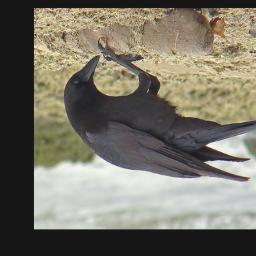Crow: (63, 37, 256, 182)
